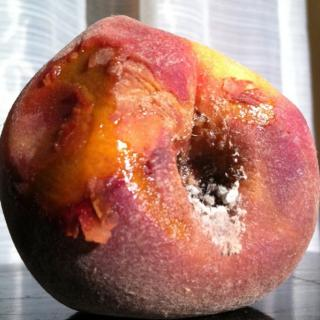Peach: (0, 12, 319, 318)
